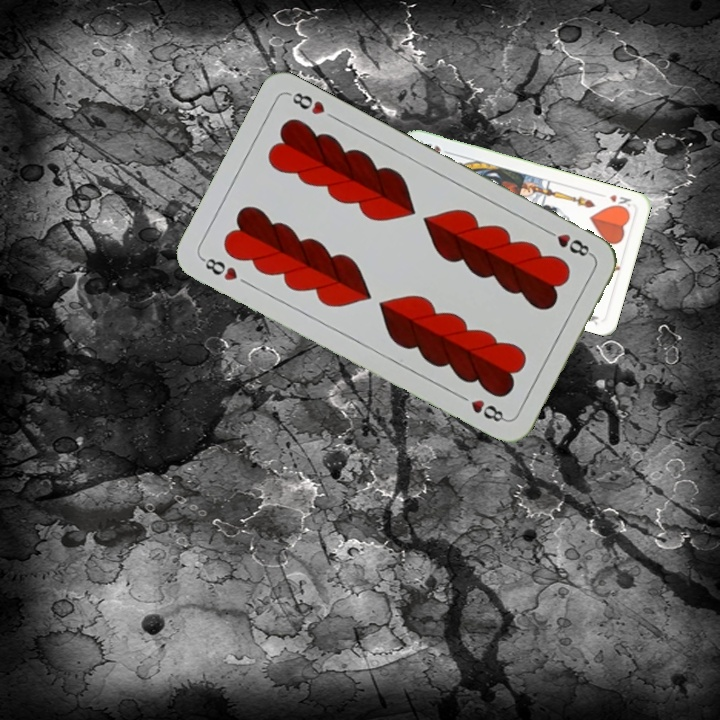H8: (541, 225, 595, 260), (197, 253, 240, 284)
HK: (605, 190, 634, 213)
